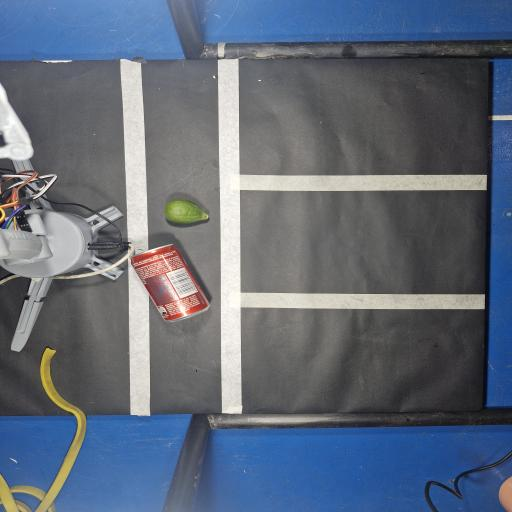higo: (165, 200, 208, 223)
lata: (131, 244, 209, 321)
